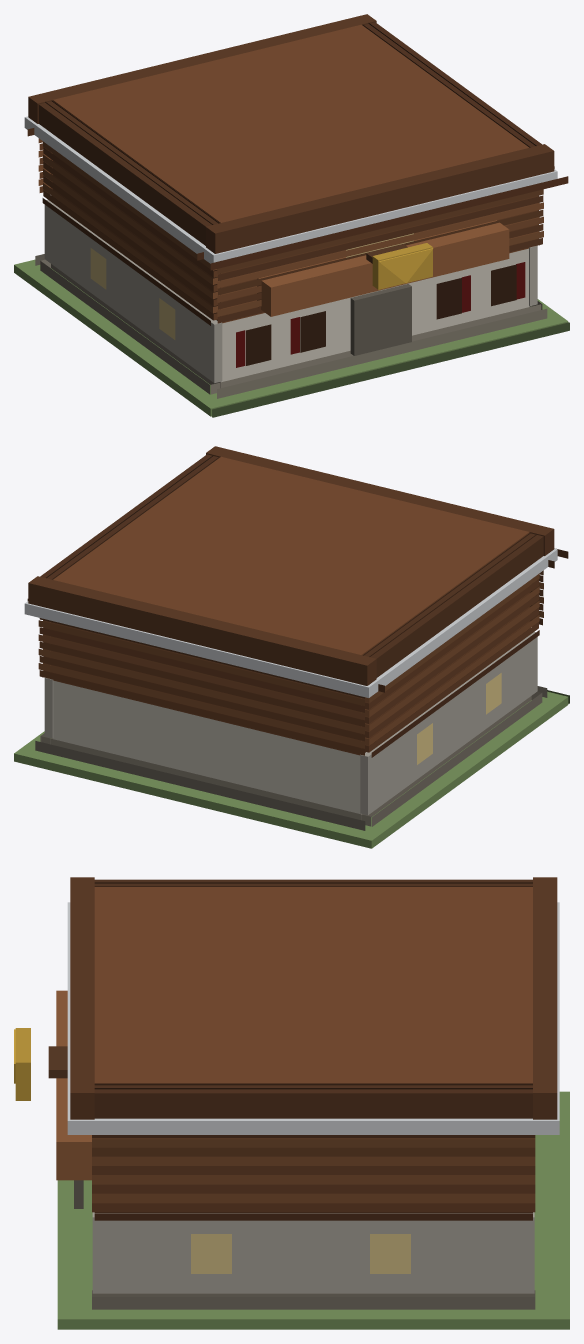
The model's file is LiveCheeseMonsterSil.fbx.
The picture shows the model from 3 angles, top to bottom: view 1: azimuth 30°, elevation 25°; view 2: azimuth 150°, elevation 25°; view 3: azimuth 270°, elevation 25°; orthographic projection. The views are drawn at different scales.
Parts seen in each view (by area): view 1: CH_S_All; view 2: CH_S_All; view 3: CH_S_All.
Boxes of the visible parts, x1=… form: CH_S_All: x1=14, y1=14, x2=569, y2=417; CH_S_All: x1=14, y1=446, x2=569, y2=848; CH_S_All: x1=14, y1=877, x2=569, y2=1329.
Size of the model in its own units: 42.04 by 19.9 by 43.44.
